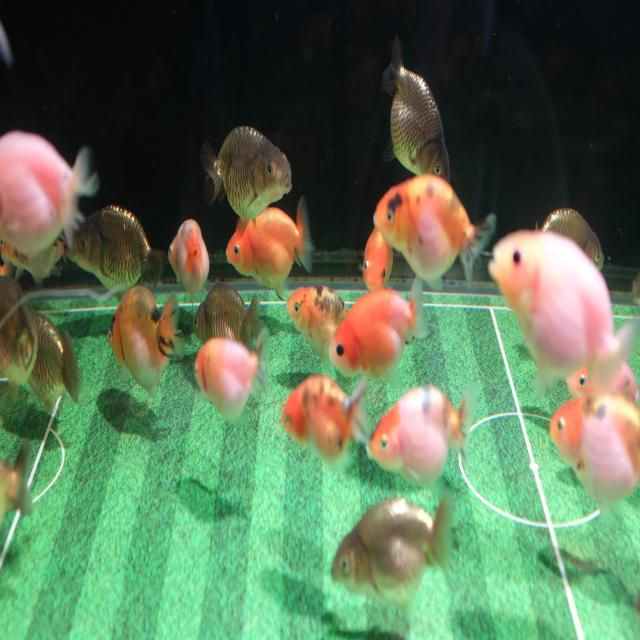Tilapia: (485, 227, 637, 398), (0, 128, 99, 284), (331, 492, 453, 616), (372, 172, 497, 290), (548, 400, 640, 529), (365, 382, 472, 489), (329, 275, 430, 380), (380, 35, 450, 182), (225, 195, 315, 301), (62, 203, 166, 294), (200, 124, 292, 224), (108, 284, 186, 399), (281, 372, 370, 472), (194, 325, 270, 426), (25, 309, 87, 416), (284, 280, 356, 362), (535, 206, 605, 272), (167, 218, 210, 306), (360, 221, 394, 292)
